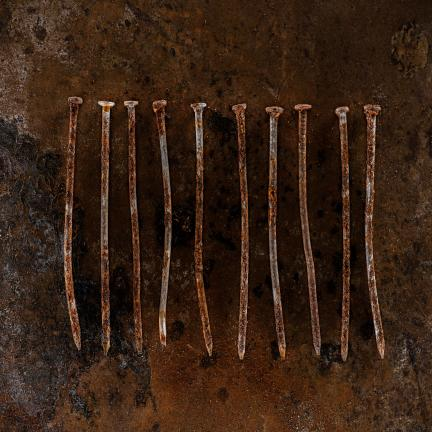karat: (98, 102, 114, 354)
